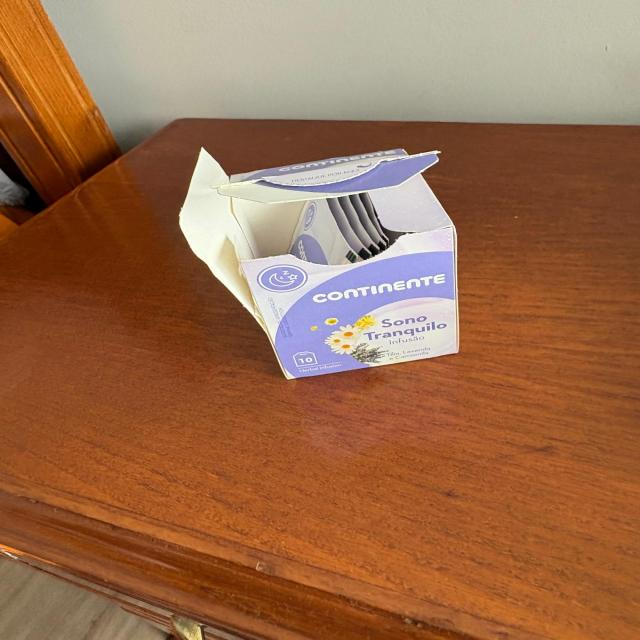damaged_package: (174, 148, 460, 375)
